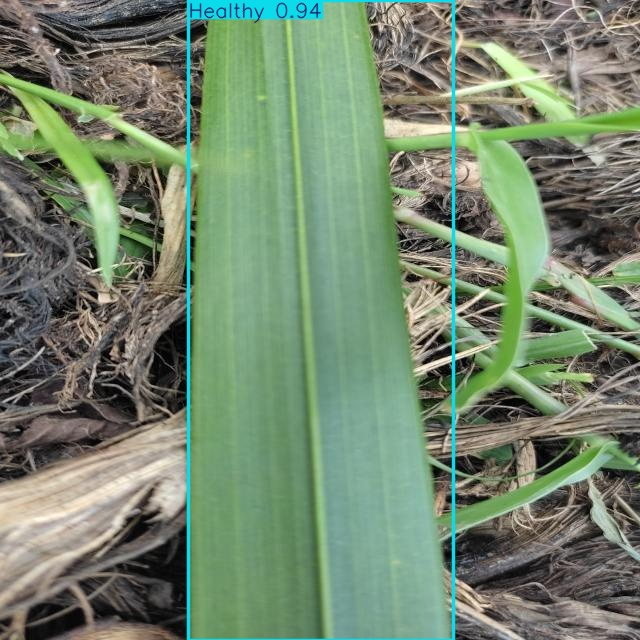Healthy: (189, 0, 454, 640)
